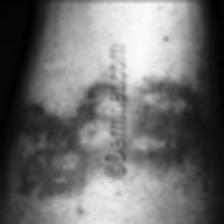Toxin: (16, 118, 110, 200), (129, 75, 208, 164)
